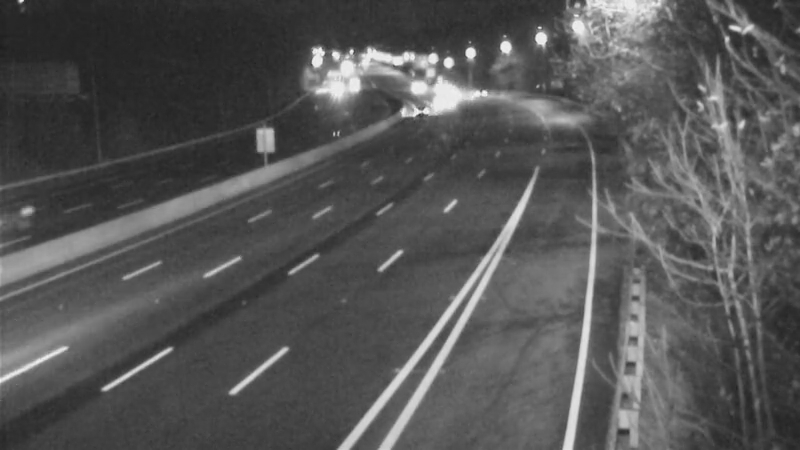vehicle: (1, 177, 72, 257), (390, 62, 440, 112), (450, 69, 500, 119), (418, 77, 468, 127), (394, 89, 444, 139)
